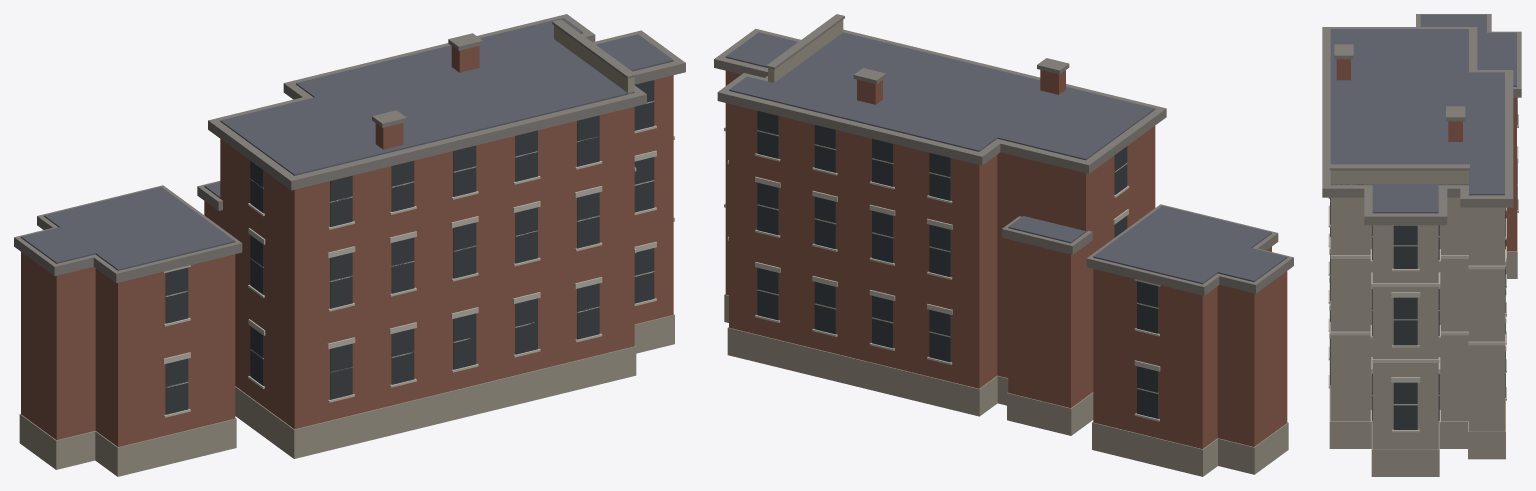
File: house_2123_prairie__draft_1904.glb
The picture shows the model from 3 angles, left to right: view 1: azimuth 30°, elevation 25°; view 2: azimuth 150°, elevation 25°; view 3: azimuth 270°, elevation 25°; orthographic projection. The views are drawn at different scales.
Visible parts, largest first — view 1: house_2123_prairie__draft_1904; view 2: house_2123_prairie__draft_1904; view 3: house_2123_prairie__draft_1904.
Boxes of the visible parts, x1=… form: house_2123_prairie__draft_1904: x1=14, y1=14, x2=685, y2=476; house_2123_prairie__draft_1904: x1=714, y1=14, x2=1293, y2=476; house_2123_prairie__draft_1904: x1=1322, y1=14, x2=1521, y2=476.
Size of the model in its own units: 27.05 by 13.34 by 8.3.
